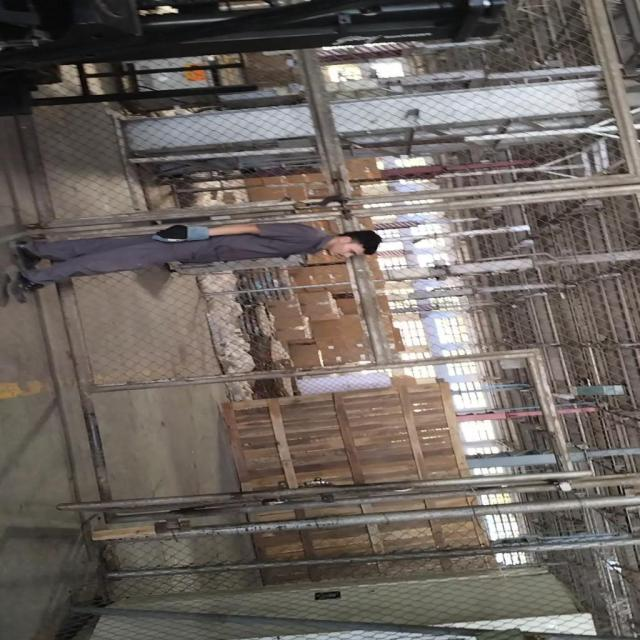Gloves-Detection: (146, 216, 214, 245)
